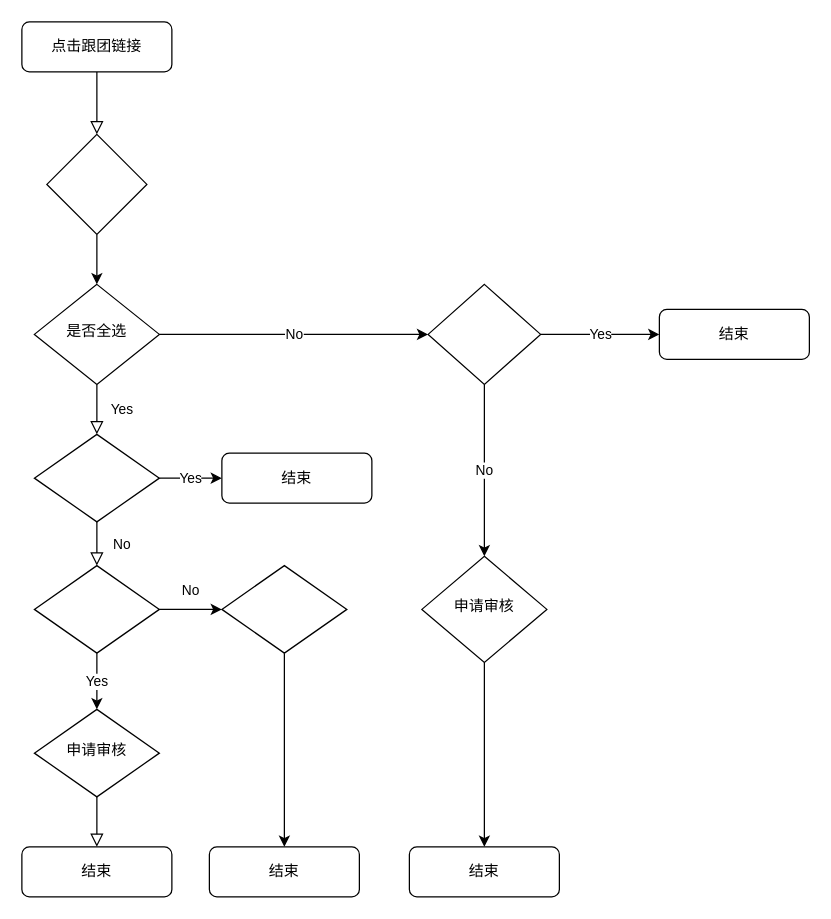
The diagram is 831 pixels wide and 919 high, and some of its shapes have lost their labels. The shapes that lost their labels are listed below. From the top down, each one's box as (x1, y1, x2, y2) in pixels, then its label:
(46, 133, 147, 234): 选择团长主页
(427, 283, 541, 384): 是否被选中
(33, 433, 159, 522): 是否存在关系
(33, 564, 159, 653): 未建立关系是否需要审核
(221, 564, 347, 653): 建立关系
